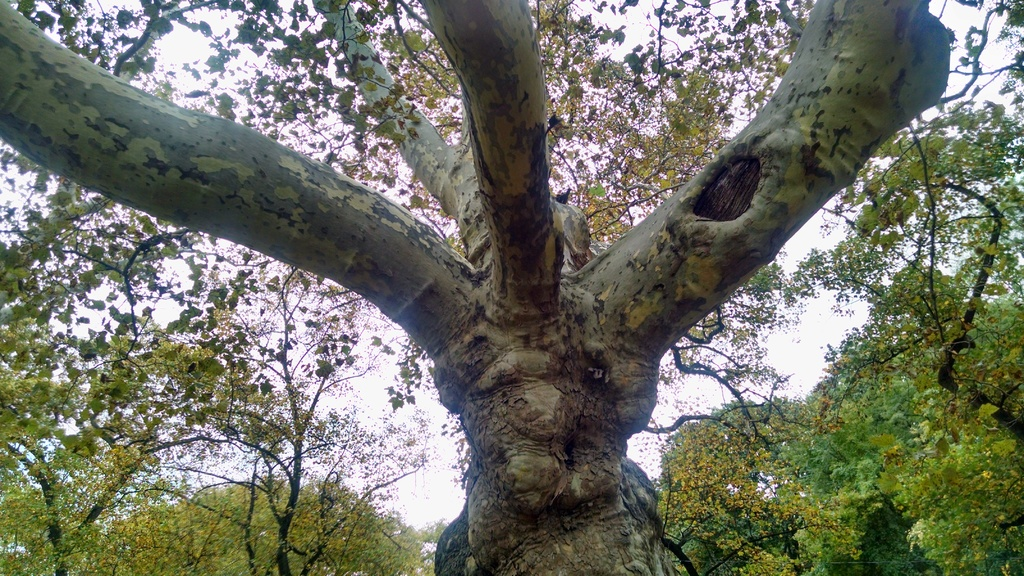Tree: (0, 0, 961, 575), (0, 193, 471, 575), (792, 0, 1023, 446), (0, 255, 296, 575), (794, 263, 1023, 575), (764, 332, 963, 575), (76, 475, 445, 575), (650, 394, 821, 575)
